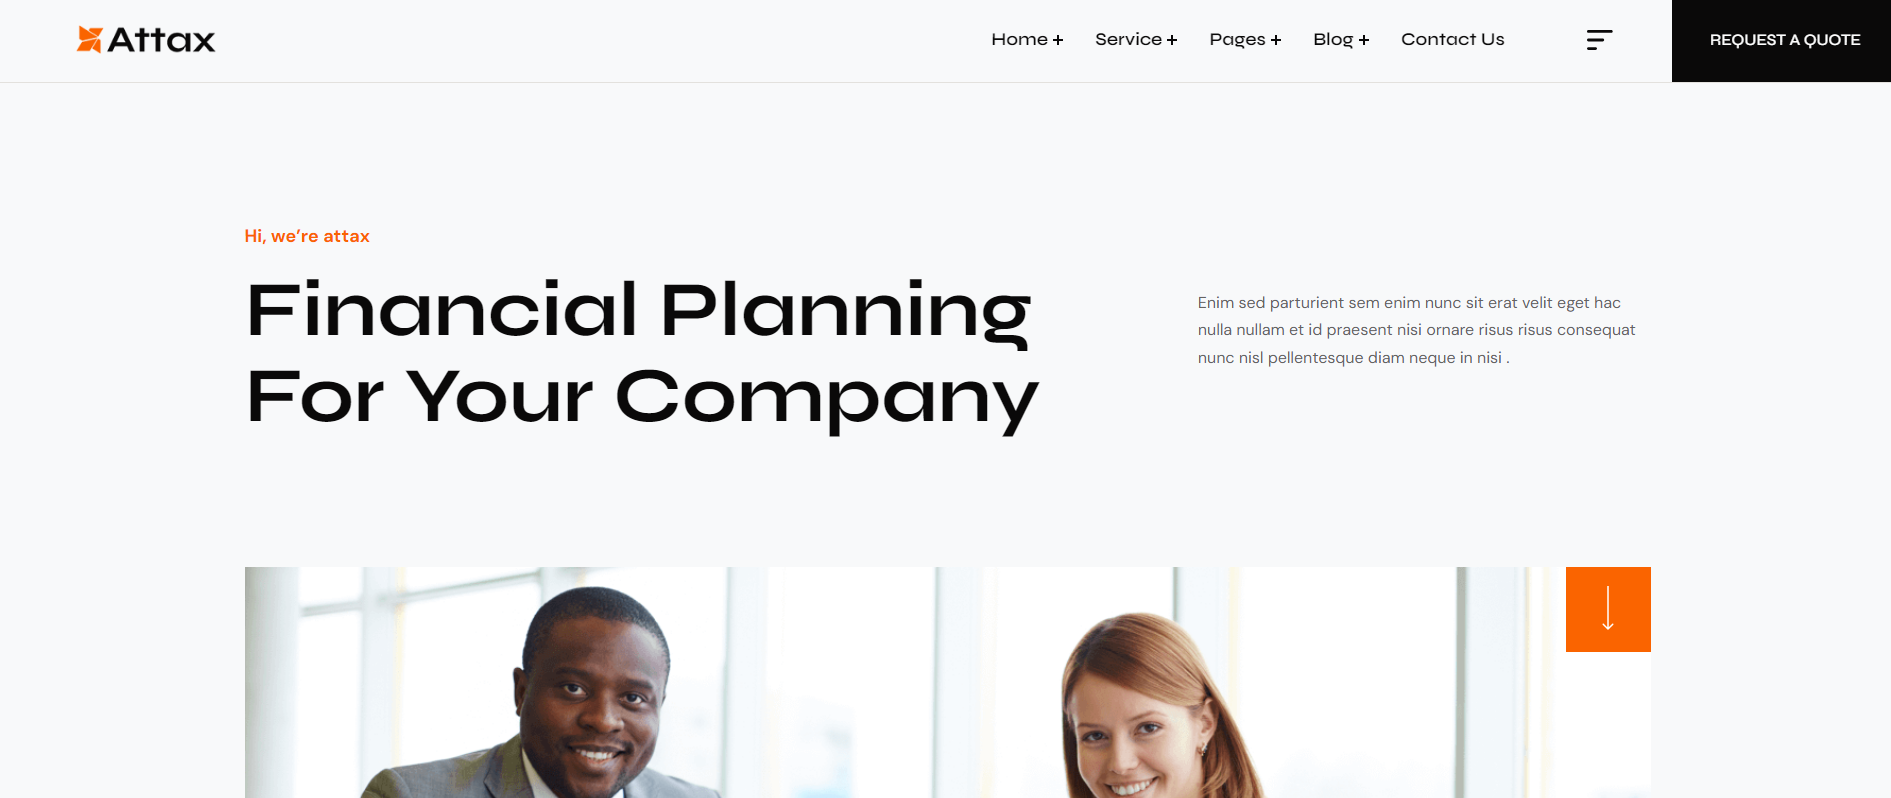menu-bar: (13, 7, 1891, 174)
